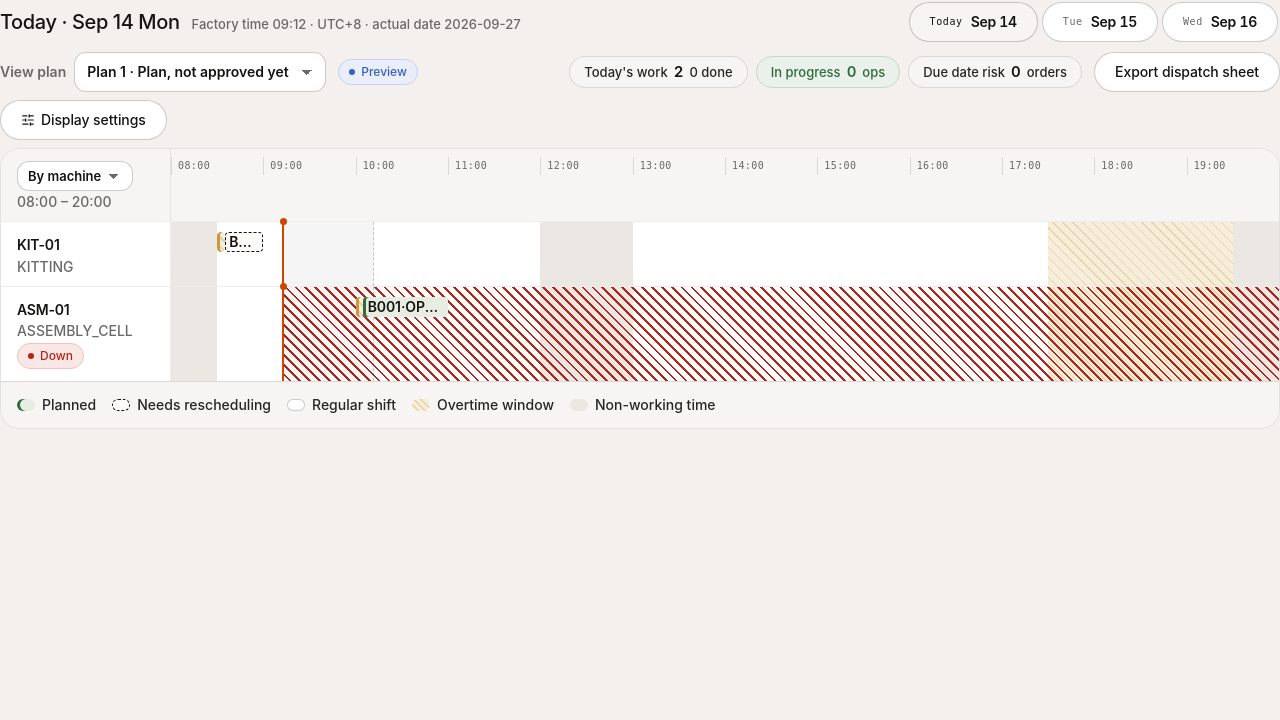
Test: daily schedule board › the legend lists all states and shift meanings
The image size is (1280, 720).
Step 1. Click the button "Display settings" → click(83, 120), box [0,100,167,140]
(page scrolled)
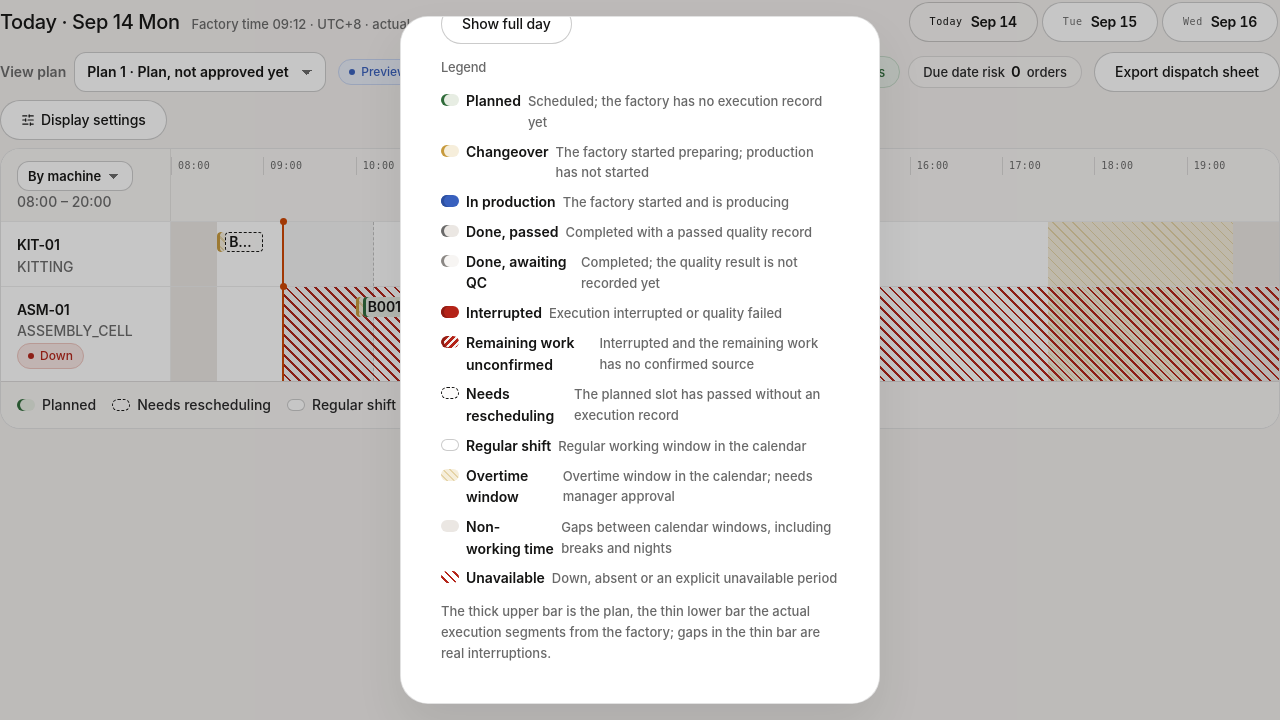
Expected: the text "Scheduled; the factory has no execution record yet" is shown, [528,91,839,133]
Expected: the text "Overtime window in the calendar; needs manager approval" is shown, [563,466,839,507]
Expected: the text "Gaps between calendar windows, including breaks and nights" is shown, [561,517,839,558]
